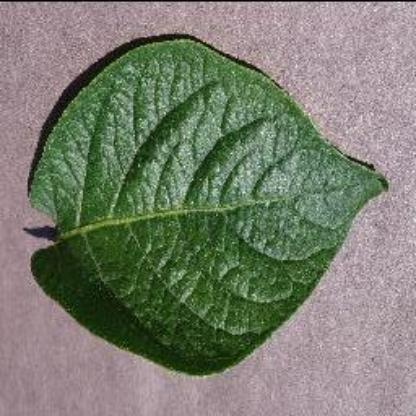Healthy-plant: (27, 33, 401, 381)
